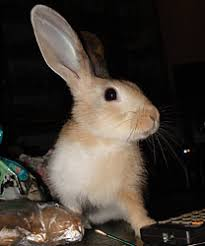bunny: (9, 1, 181, 236)
